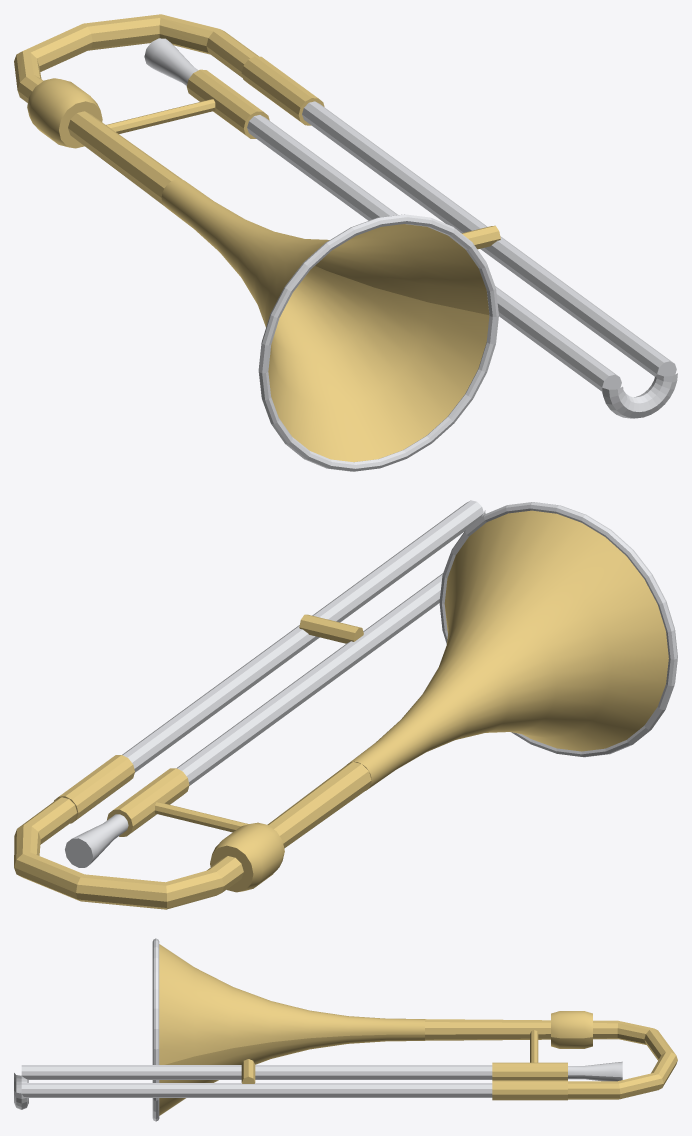
File: orchestra-and-band-instruments-trombone-f2ed87b7__39293.glb
3 renders of one model, top to bottom at view 1: azimuth 30°, elevation 25°; view 2: azimuth 150°, elevation 25°; view 3: azimuth 270°, elevation 25°, orthographic. The views are drawn at different scales.
Parts seen in each view (by area): view 1: trombone, slide/nickel; view 2: trombone, slide/nickel, slide/brass; view 3: trombone, slide/nickel, slide/brass.
Part boxes in pixels (x1=…): trombone: x1=14, y1=14, x2=498, y2=471; slide/nickel: x1=247, y1=101, x2=677, y2=418; trombone: x1=14, y1=502, x2=677, y2=909; slide/nickel: x1=122, y1=500, x2=485, y2=785; slide/brass: x1=299, y1=614, x2=363, y2=643; trombone: x1=152, y1=938, x2=677, y2=1121; slide/nickel: x1=14, y1=1065, x2=492, y2=1109; slide/brass: x1=241, y1=1059, x2=255, y2=1083.
Size of the model in its own units: 0.291 by 0.218 by 0.79.
